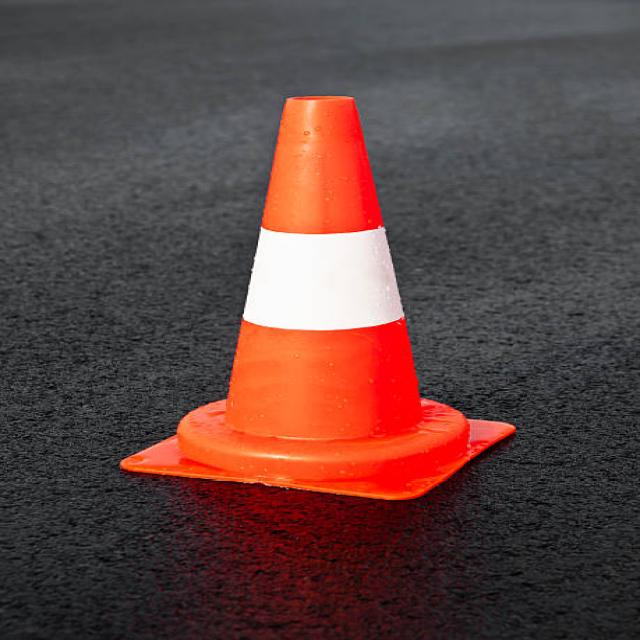Traffic Cone: (111, 56, 544, 551)
